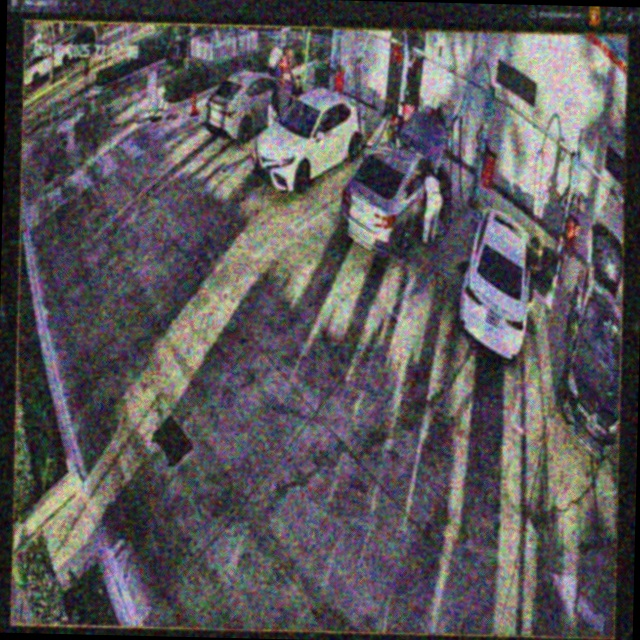Car: (337, 114, 453, 262), (459, 204, 561, 364), (252, 91, 367, 192), (200, 65, 304, 141)
